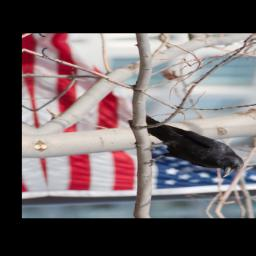Crow: (130, 110, 247, 181)
